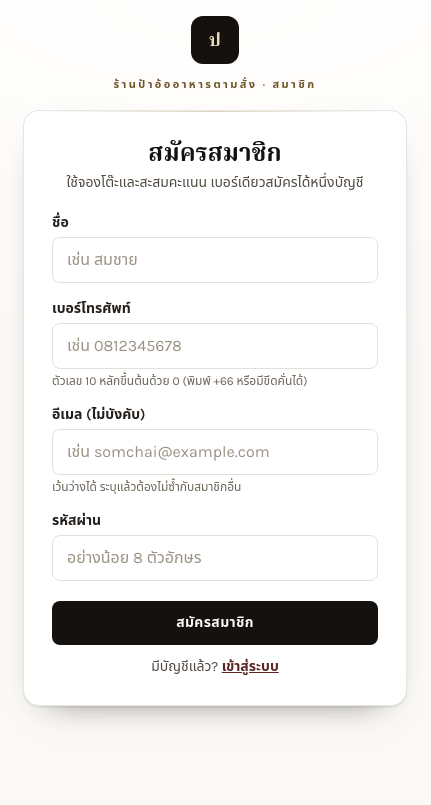
Test: หน้าสมัครสมาชิก (ภาษาไทย) › แสดง label ครบและแจ้งเตือนเมื่อกดโดยไม่กรอก
Expected: the field labelled "ชื่อ" is shown, [52,237,378,283]
Expected: the field labelled "เบอร์โทรศัพท์" is shown, [52,323,378,369]
Click the button "สมัครสมาชิก": (215, 623) [52,601,378,645]
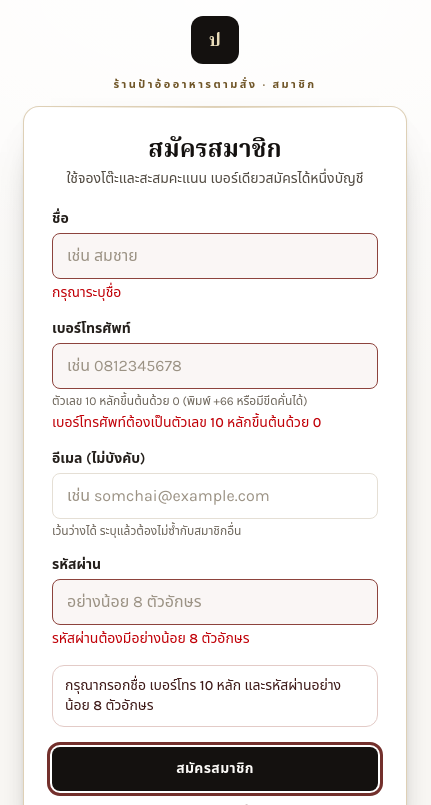
Now the message shows "กรุณากรอกชื่อ", box [65,677,341,714]
